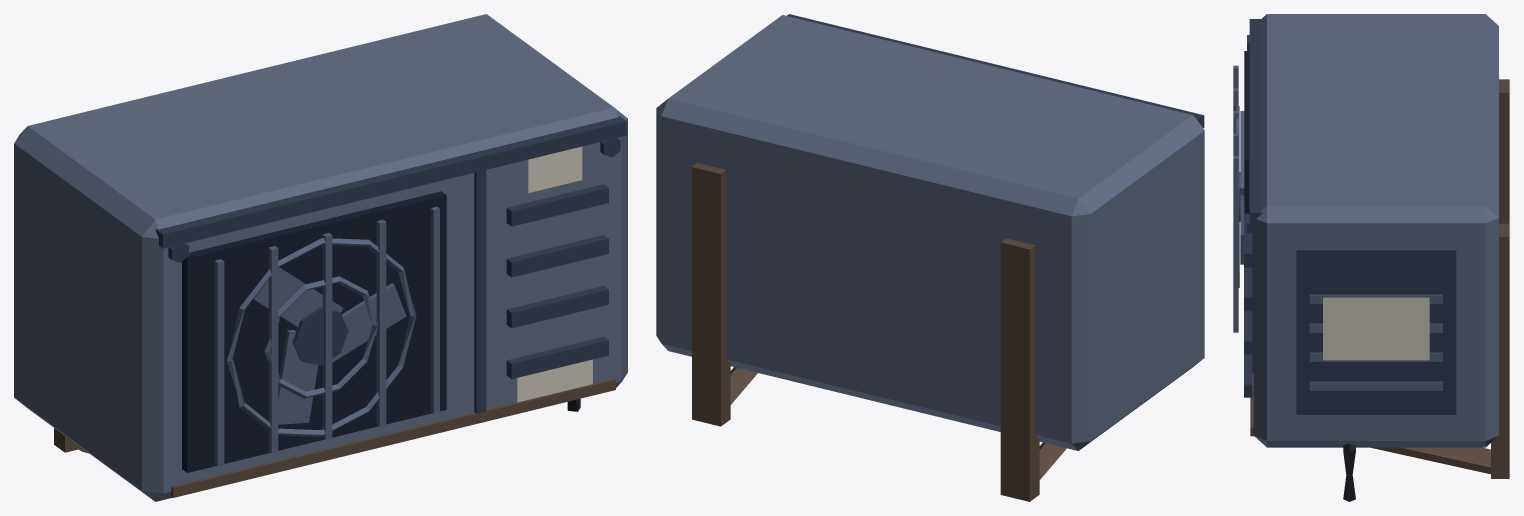
The model's file is city_ac_unit.glb.
The picture shows the model from 3 angles, left to right: view 1: azimuth 30°, elevation 25°; view 2: azimuth 150°, elevation 25°; view 3: azimuth 270°, elevation 25°; orthographic projection. The views are drawn at different scales.
Visible parts, largest first — view 1: housing, fan_recess, bolt_0, support, sticker, fan_guard, fan_blade.002, fan_guard_bar, fan_guard_bar.003, fan_guard_bar.001, side_louvre.002, side_louvre (+8 smaller); view 2: housing, wall_bracket, wall_bracket.001, bolt_0; view 3: housing, bolt_0, sticker, wall_bracket.001, fan_blade, support.001, wall_bracket, fan_guard_bar.004, fan_recess, drain_hose, fan_guard, side_louvre.001 (+4 smaller).
Boxes of the visible parts, x1,y1,x2,y2 form: housing: (14, 14, 627, 501); fan_recess: (182, 191, 446, 472); bolt_0: (155, 116, 627, 413); support: (68, 378, 615, 497); sticker: (517, 146, 592, 402); fan_guard: (226, 238, 416, 436); fan_blade.002: (278, 330, 318, 424); fan_guard_bar: (214, 259, 224, 466); fan_guard_bar.003: (376, 219, 386, 426); fan_guard_bar.001: (268, 246, 278, 452); side_louvre.002: (506, 235, 608, 277); side_louvre: (506, 336, 608, 379); housing: (656, 15, 1204, 450); wall_bracket: (1000, 238, 1039, 501); wall_bracket.001: (692, 163, 730, 426); bolt_0: (787, 14, 1204, 127); housing: (1253, 14, 1498, 447); bolt_0: (1247, 19, 1456, 414); sticker: (1323, 297, 1429, 360); wall_bracket.001: (1491, 223, 1509, 478); fan_blade: (1240, 195, 1442, 390); support.001: (1371, 447, 1490, 474); wall_bracket: (1499, 79, 1509, 223); fan_guard_bar.004: (1233, 156, 1238, 332); fan_recess: (1244, 51, 1249, 213); drain_hose: (1343, 443, 1355, 501); fan_guard: (1233, 104, 1239, 287); side_louvre.001: (1244, 310, 1252, 354).
Bounding box in the file's own units: 0.907 × 0.6043 × 0.518.
